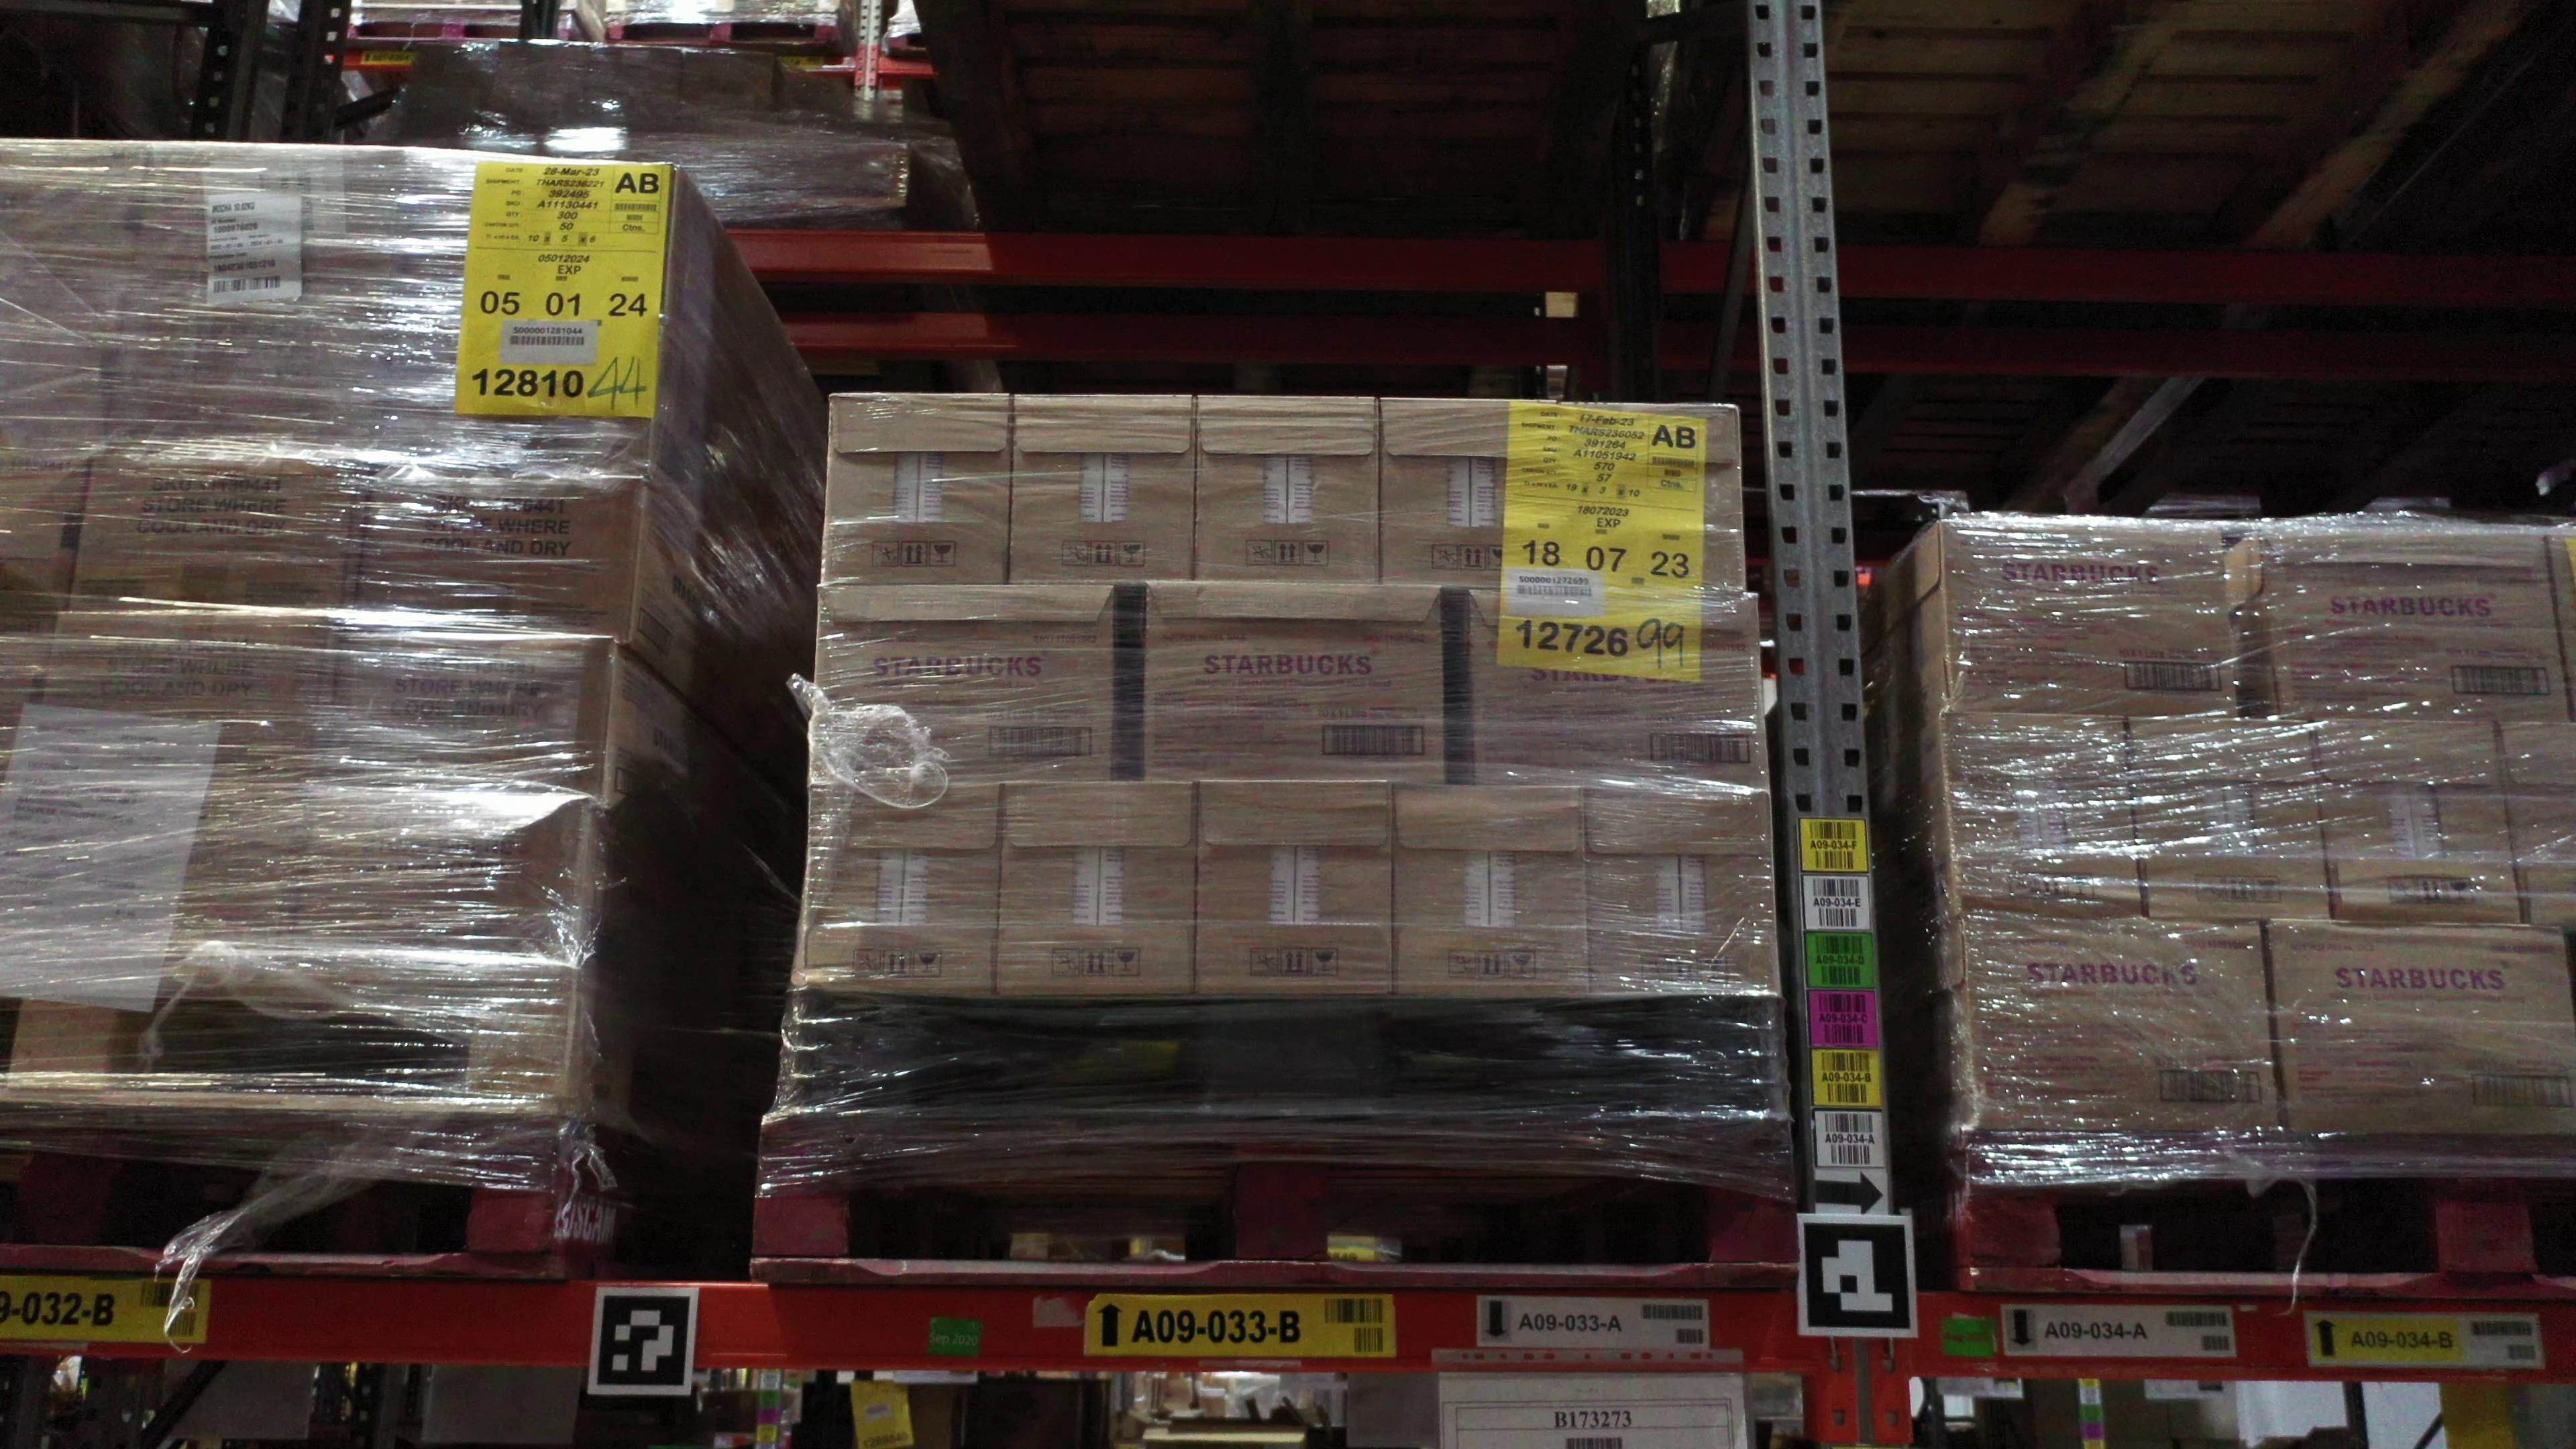-: (1959, 909, 2289, 1145), (2263, 922, 2576, 1138), (2254, 524, 2576, 725), (810, 577, 1116, 787), (1136, 582, 1444, 789), (1468, 582, 1771, 791), (16, 610, 345, 794), (1941, 517, 2236, 720), (350, 456, 646, 639), (2, 782, 322, 950), (295, 780, 593, 961), (69, 448, 364, 626), (393, 150, 685, 331), (120, 145, 416, 322), (324, 625, 617, 798), (1000, 778, 1201, 1001), (1196, 778, 1396, 1001), (794, 782, 1003, 993), (2312, 722, 2525, 929), (2127, 720, 2335, 929), (1392, 786, 1592, 998), (1585, 782, 1778, 1001), (379, 324, 658, 474), (104, 313, 393, 456), (1946, 711, 2146, 916), (1187, 393, 1387, 582), (821, 391, 1014, 586), (1384, 389, 1569, 586), (1559, 400, 1744, 591), (1008, 393, 1196, 579), (2493, 711, 2576, 934), (0, 315, 117, 458), (0, 448, 90, 625)
